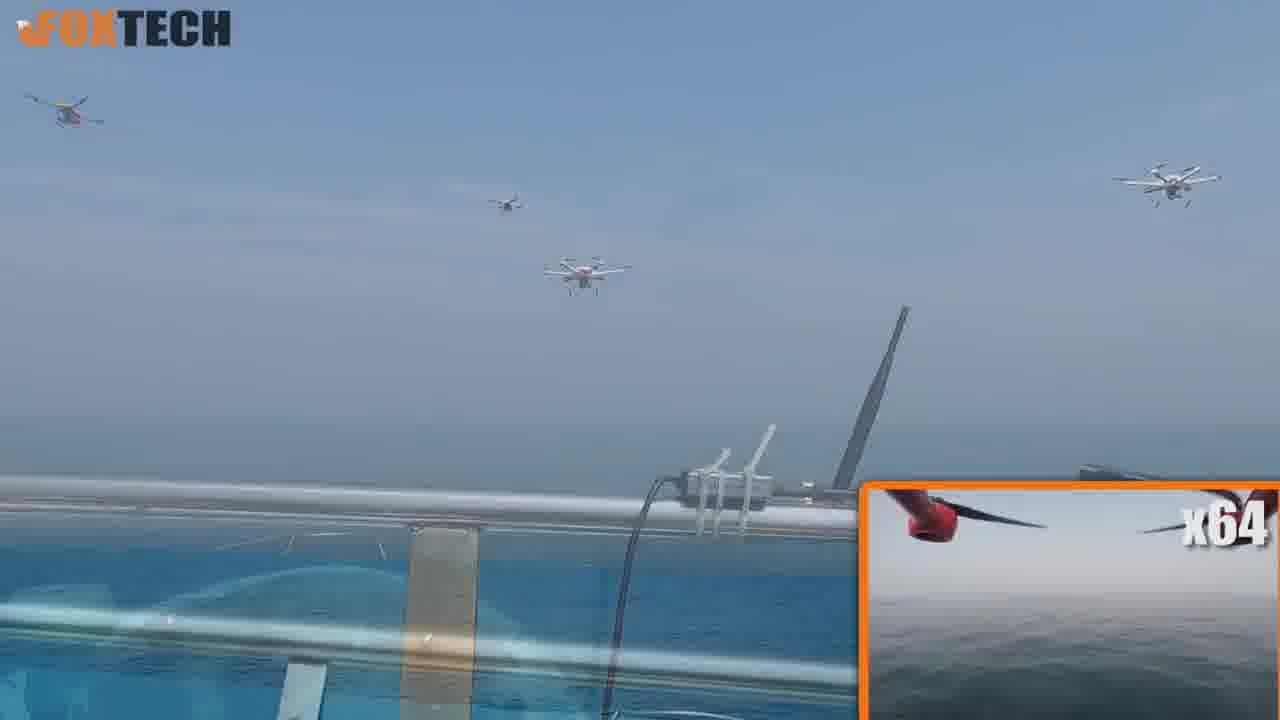drone: (1112, 158, 1231, 214), (25, 86, 115, 135), (546, 253, 623, 292), (491, 183, 529, 221)
